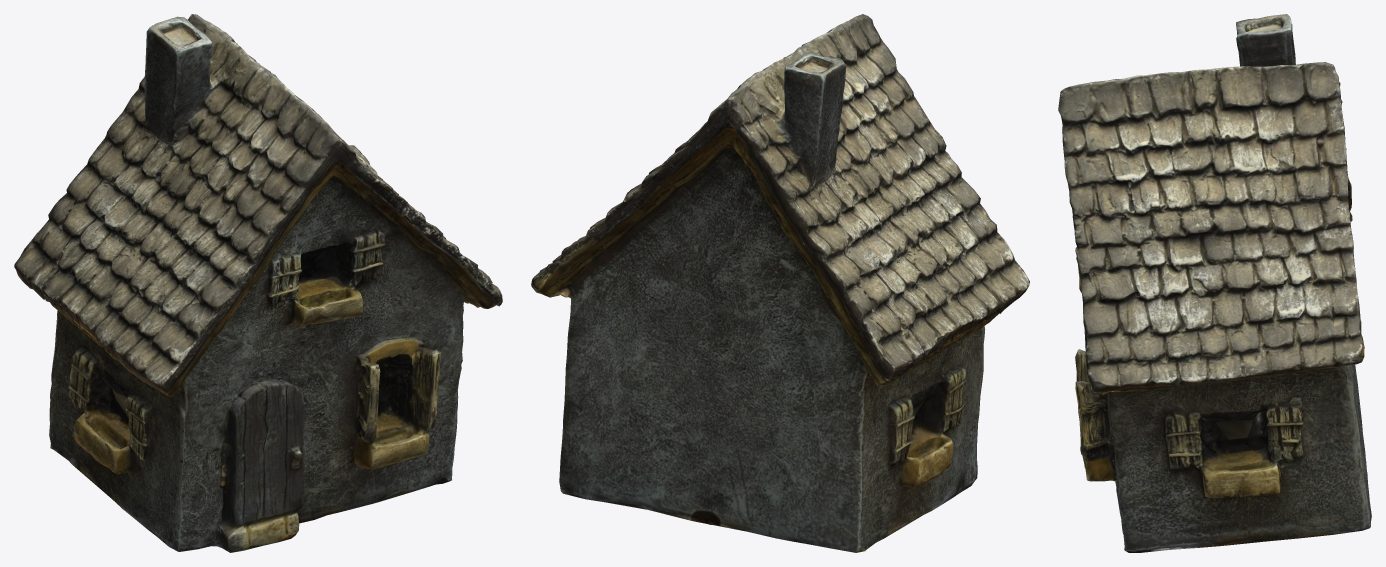
File: cottage_stone.glb
3 renders of one model, left to right at view 1: azimuth 30°, elevation 25°; view 2: azimuth 150°, elevation 25°; view 3: azimuth 270°, elevation 25°, orthographic. The views are drawn at different scales.
Visible parts, largest first — view 1: cottage_stone; view 2: cottage_stone; view 3: cottage_stone.
Boxes of the visible parts, x1=… form: cottage_stone: x1=14, y1=14, x2=502, y2=552; cottage_stone: x1=531, y1=14, x2=1029, y2=552; cottage_stone: x1=1058, y1=14, x2=1371, y2=552.
Bounding box in the file's own units: 4.66 × 5.5 × 3.57.
Materials: 1 (1 with a texture image).
